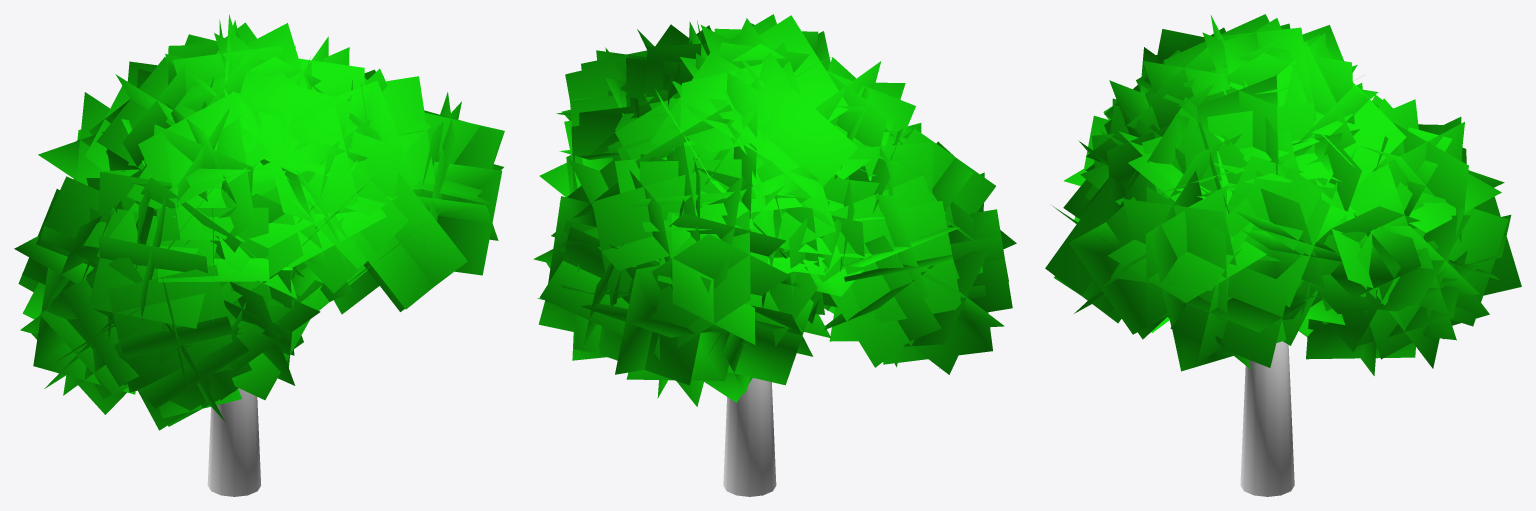
The model's file is tree.glb.
3 renders of one model, left to right at view 1: azimuth 30°, elevation 25°; view 2: azimuth 150°, elevation 25°; view 3: azimuth 270°, elevation 25°, orthographic. The views are drawn at different scales.
Visible parts, largest first — view 1: leafs, tree; view 2: leafs, tree; view 3: leafs, tree.
Part boxes in pixels (bbox=[...]): leafs: bbox=[14, 14, 504, 430]; tree: bbox=[207, 388, 261, 496]; leafs: bbox=[533, 14, 1016, 406]; tree: bbox=[723, 378, 776, 496]; leafs: bbox=[1045, 14, 1521, 375]; tree: bbox=[1240, 341, 1294, 496].
Size of the model in its own units: 19.83 by 18.88 by 17.57.
